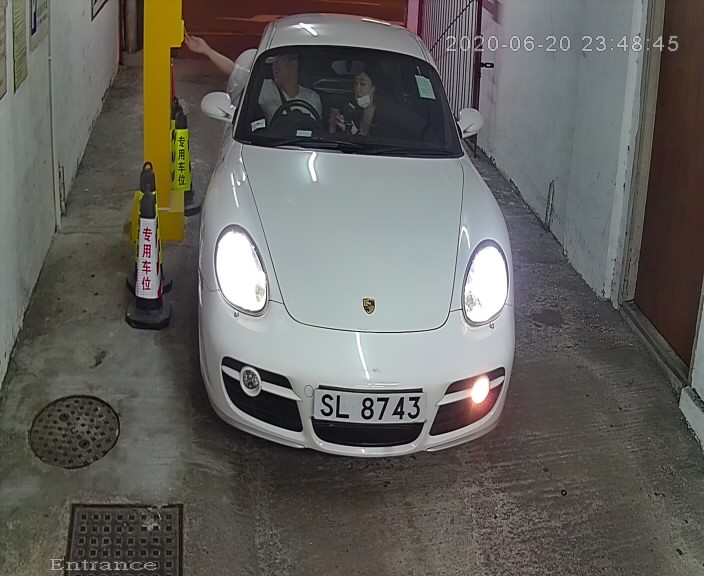privatecar: (186, 9, 532, 504)
